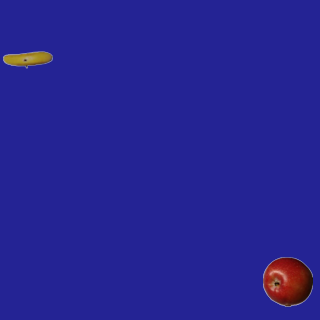Apple Braeburn: (262, 256, 312, 306)
Banana: (2, 34, 52, 84)
